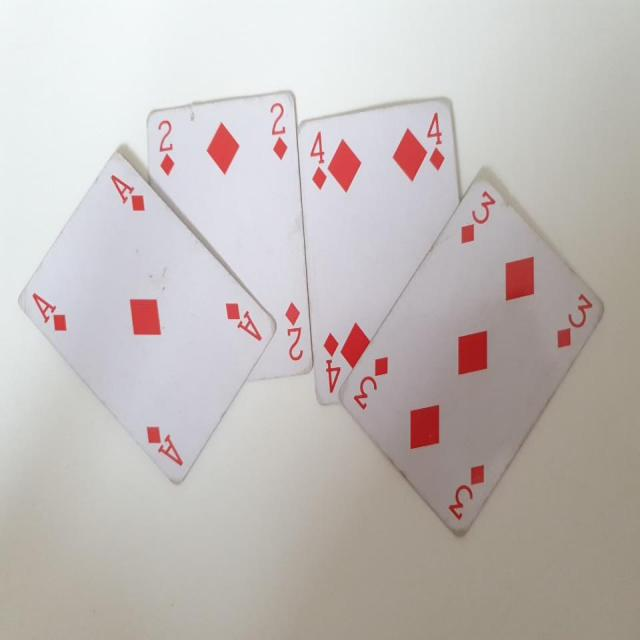2 Diamonds: (146, 79, 316, 386)
3 Diamonds: (337, 175, 605, 542)
4 Diamonds: (299, 91, 467, 409)
A Diamonds: (11, 136, 274, 495)
